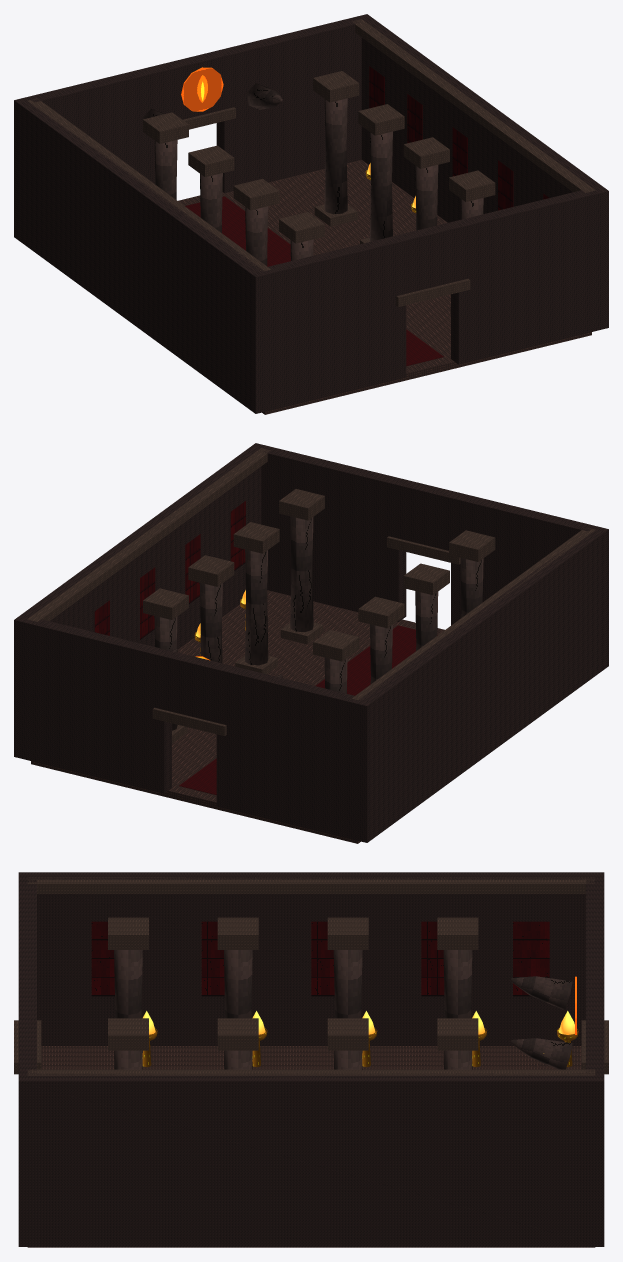
The model's file is f_halle.glb.
3 views of the same model, one above another, from view 1: azimuth 30°, elevation 25°; view 2: azimuth 150°, elevation 25°; view 3: azimuth 270°, elevation 25° (orthographic). The views are drawn at different scales.
Visible parts, largest first — view 1: wallS-1, wallF1, wallF-1, wallB1, wallS1, floor, wallB-1, cornice1, wallFTop, p-461, carpet, p-341 (+23 smaller); view 2: wallS-1, wallB1, wallB-1, wallF1, wallS1, floor, wallF-1, cornice1, wallBTop, wallFTop, p-221, p-101 (+22 smaller); view 3: wallS1, wallS-1, floor, cornice-1, cornice1, ban4-1, p-46-1, p-34-1, p-22-1, p-10-1, ban0-1, ban1-1 (+24 smaller).
Part boxes in pixels (left/top/right/bottom): wallS-1: left=14, top=97, right=268, bottom=413; wallF1: left=451, top=190, right=595, bottom=364; wallF-1: left=265, top=235, right=406, bottom=410; wallB1: left=216, top=17, right=361, bottom=192; wallS1: left=354, top=14, right=608, bottom=330; floor: left=178, top=159, right=591, bottom=414; wallB-1: left=27, top=63, right=171, bottom=183; cornice1: left=352, top=19, right=595, bottom=192; wallFTop: left=399, top=222, right=458, bottom=293; p-461: left=324, top=98, right=347, bottom=214; carpet: left=185, top=196, right=443, bottom=365; p-341: left=369, top=131, right=392, bottom=241; wallS-1: left=354, top=526, right=608, bottom=842; wallB1: left=27, top=619, right=171, bottom=793; wallB-1: left=216, top=664, right=359, bottom=839; wallF1: left=261, top=446, right=406, bottom=621; wallS1: left=14, top=443, right=268, bottom=759; floor: left=31, top=590, right=444, bottom=843; wallF-1: left=451, top=492, right=595, bottom=625; cornice1: left=27, top=448, right=270, bottom=621; wallBTop: left=164, top=651, right=223, bottom=722; wallFTop: left=398, top=479, right=458, bottom=550; p-221: left=245, top=549, right=268, bottom=665; p-101: left=290, top=516, right=313, bottom=631; wallS1: left=18, top=1073, right=604, bottom=1246; wallS-1: left=18, top=872, right=604, bottom=1045; floor: left=27, top=1046, right=595, bottom=1247; cornice-1: left=27, top=877, right=594, bottom=893; cornice1: left=27, top=1069, right=595, bottom=1075; ban4-1: left=513, top=921, right=549, bottom=996; p-46-1: left=443, top=950, right=472, bottom=1069; p-34-1: left=333, top=950, right=362, bottom=1069; p-22-1: left=224, top=950, right=252, bottom=1069; p-10-1: left=114, top=950, right=142, bottom=1069; ban0-1: left=91, top=921, right=114, bottom=996; ban1-1: left=201, top=921, right=224, bottom=996.
Size of the model in its own units: 54 by 21 by 65.
8 materials, 7 textured.
